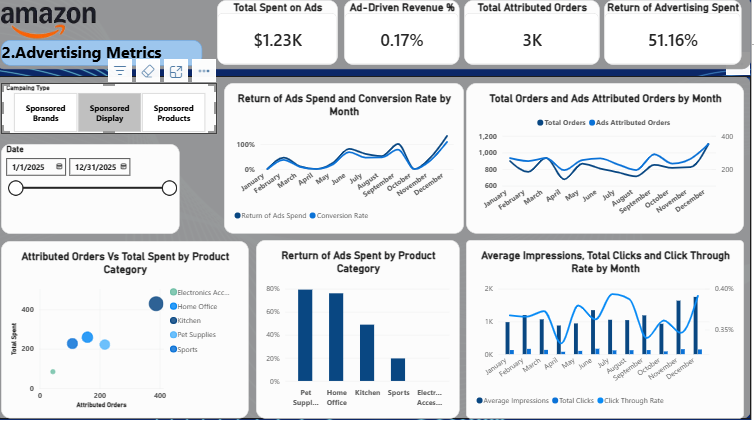

What the dashboard file says about the page in this screenshot:
{"tool":"powerbi","page":{"name":"Page Ads","canvas":[1280,720],"ordinal":1},"visuals":[{"type":"textbox","box":[10.3,133.7,1269.6,576],"z":0},{"type":"textbox","box":[10.3,0,1269.6,123.4],"z":1000},{"type":"cardVisual","title":"Total Spent on Ads","fields":{"Data":["Sum(ads_daily.spend)"]},"box":[383.5,7.3,202.8,108.7],"z":2000},{"type":"cardVisual","title":"Return of Advertising Spent","fields":{"Data":["ads_daily.ROAS"]},"box":[1033,7.3,230.7,108.7],"z":3000},{"type":"slicer","fields":{"Values":["ads_daily.campaign_type"]},"box":[20.6,146.9,362.9,85.2],"z":4000},{"type":"cardVisual","title":"Total Attributed Orders","fields":{"Data":["orders.Attributed Orders"]},"box":[797.9,7.3,227.8,108.7],"z":5000},{"type":"lineChart","fields":{"Y":["ads_daily.ROAS","ads_daily.CVR"],"Category":["orders.order_date.Variation.Date Hierarchy.Month"]},"box":[395.3,146.9,402.6,252.7],"z":6000},{"type":"lineChart","fields":{"Y":["CountNonNull(orders.order_id)"],"Y2":["orders.Attributed Orders"],"Category":["orders.order_date.Variation.Date Hierarchy.Month"]},"box":[800.8,146.9,467.3,252.7],"z":7000},{"type":"clusteredColumnChart","title":"Rerturn of Ads Spent by Product Category","fields":{"Y":["ads_daily.ROAS"],"Category":["sku_catalog.category"]},"box":[448.2,410,342.4,299.8],"z":8000},{"type":"scatterChart","title":"Attributed Orders Vs Total Spent by Product Category","fields":{"Series":["sku_catalog.category"],"X":["orders.Attributed Orders"],"Y":["Sum(ads_daily.spend)"],"Size":["Sum(orders.revenue)"]},"box":[20.6,411.4,415.8,298.3],"z":9000},{"type":"slicer","fields":{"Values":["orders.order_date"]},"box":[20.6,248.3,299.8,151.3],"z":10000},{"type":"textbox","box":[20.6,73.5,338,42.6],"z":11000},{"type":"lineClusteredColumnComboChart","fields":{"Y":["Avg(ads_daily.impressions)","Sum(ads_daily.clicks)"],"Y2":["ads_daily.CTR"],"Category":["orders.order_date.Variation.Date Hierarchy.Month"]},"box":[800.8,410,467.3,299.8],"z":12000},{"type":"cardVisual","title":"Ad-Driven Revenue %","fields":{"Data":["ads_daily.Ad-Driven Revenue %"]},"box":[596.6,7.3,194,108.7],"z":13000},{"type":"image","box":[10.3,0,179.3,95.5],"z":14000}]}

Visuals, with their boxes on the page's 1280x720 design canvas (x1, y1, x2, y2). These are canvas units, not pixel positions in the 754x445 screenshot, which may show the page scaled, cropped or inside an application window:
textbox: locate(10, 134, 1280, 710)
textbox: locate(10, 0, 1280, 123)
"Total Spent on Ads" cardVisual: locate(384, 7, 586, 116)
"Return of Advertising Spent" cardVisual: locate(1033, 7, 1264, 116)
slicer - ads_daily.campaign_type: locate(21, 147, 384, 232)
"Total Attributed Orders" cardVisual: locate(798, 7, 1026, 116)
lineChart - ads_daily.ROAS x ads_daily.CVR: locate(395, 147, 798, 400)
lineChart - CountNonNull(orders.order_id) x orders.Attributed Orders: locate(801, 147, 1268, 400)
"Rerturn of Ads Spent by Product Category" clusteredColumnChart: locate(448, 410, 791, 710)
"Attributed Orders Vs Total Spent by Product Category" scatterChart: locate(21, 411, 436, 710)
slicer - orders.order_date: locate(21, 248, 320, 400)
textbox: locate(21, 74, 359, 116)
lineClusteredColumnComboChart - Avg(ads_daily.impressions) x Sum(ads_daily.clicks): locate(801, 410, 1268, 710)
"Ad-Driven Revenue %" cardVisual: locate(597, 7, 791, 116)
image: locate(10, 0, 190, 96)
